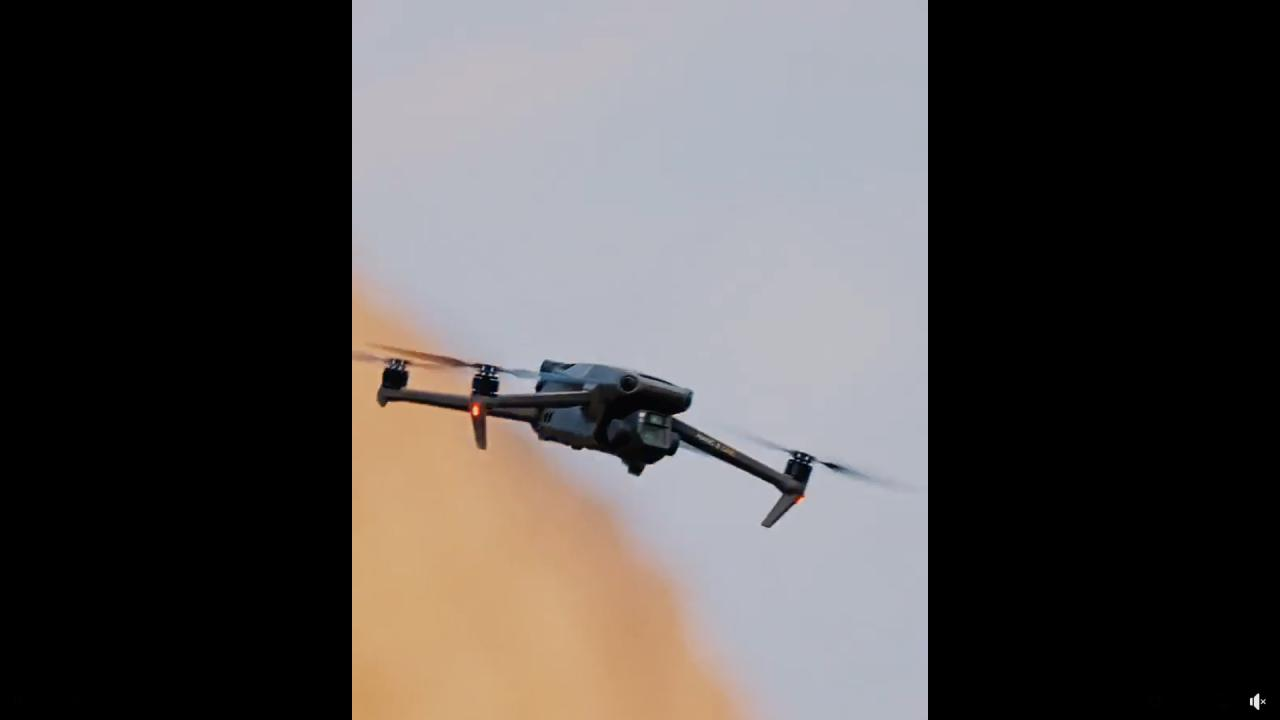Drone: (352, 325, 928, 544)
